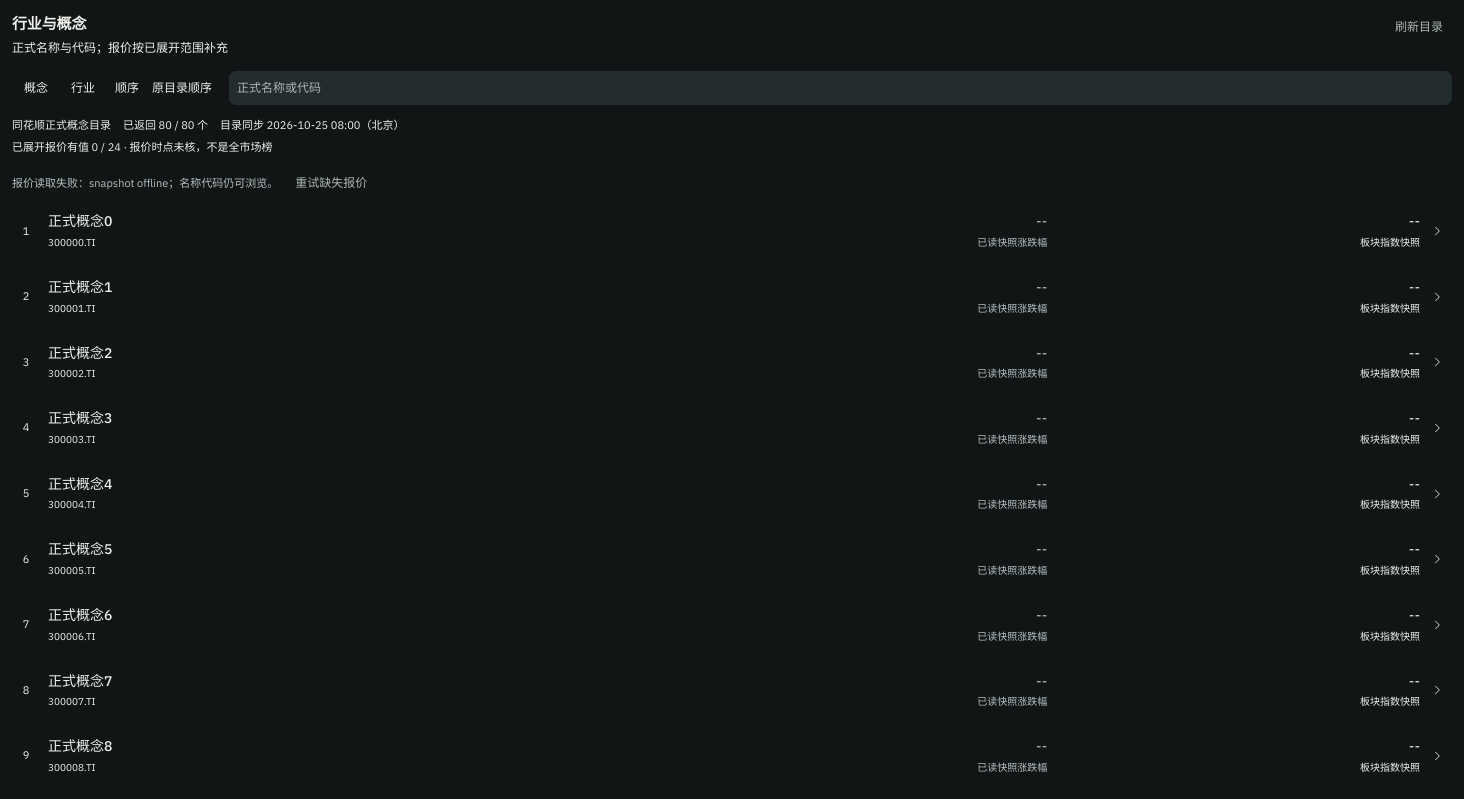
Test: 官方目录与可选报价独立读取 › 报价失败不隐藏目录，可只重试缺失报价，真实0与未知分开
Expected: the button with aria-label "查看正式概念0成分" is shown, [12, 208, 1452, 254]
Expected: the text "报价读取失败：snapshot offline；名称代码仍可浏览。" is shown, [12, 175, 278, 192]
Click the button "重试缺失报价" at [331, 183], box [286, 168, 376, 198]
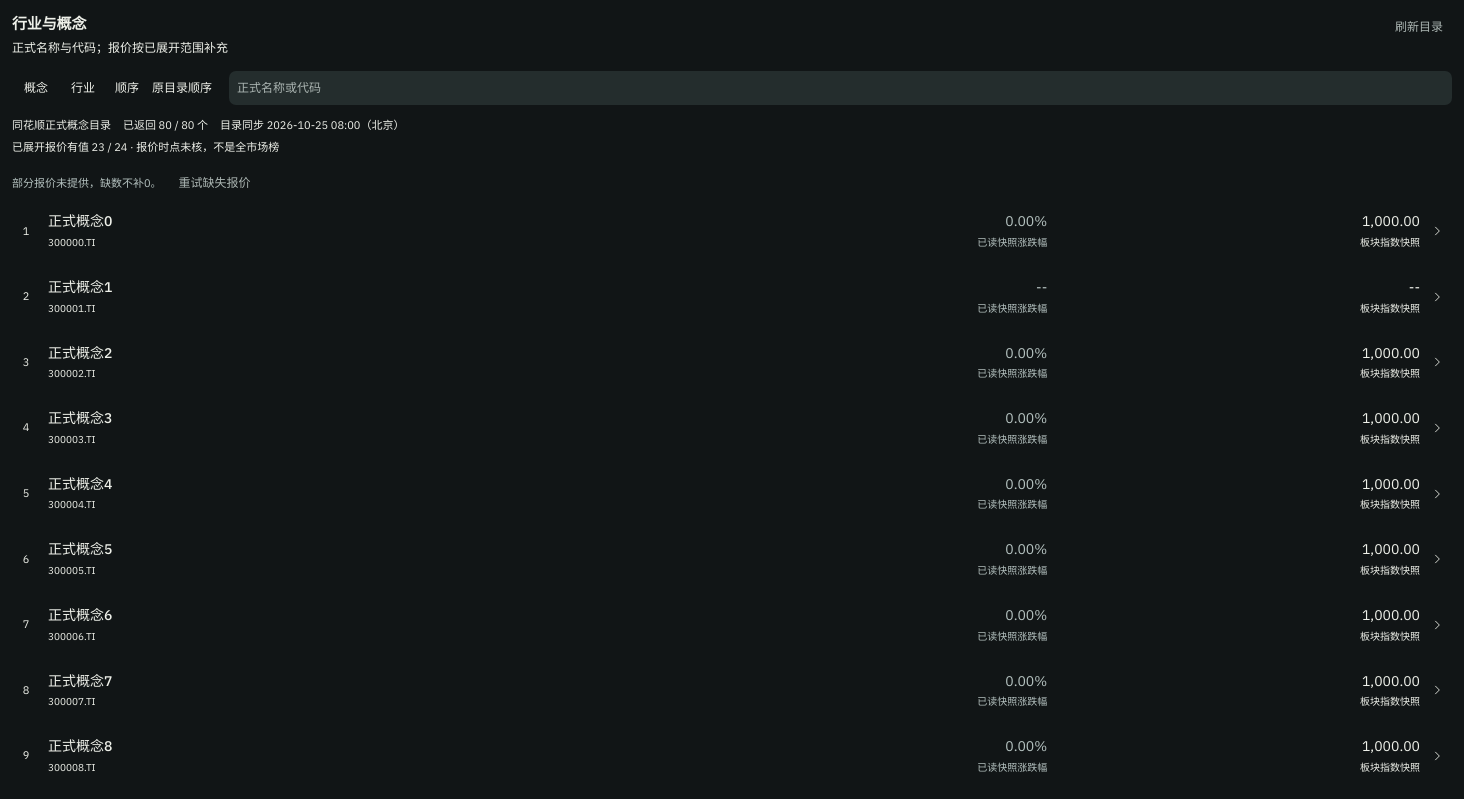
Expected: the text "部分报价未提供，缺数不补0。" is shown, [12, 175, 162, 192]
Expected: the 1st text "0.00%" is shown, [1005, 212, 1047, 230]
